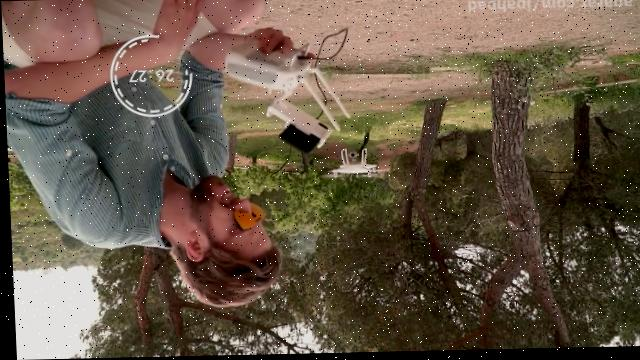drone: (313, 147, 391, 183)
